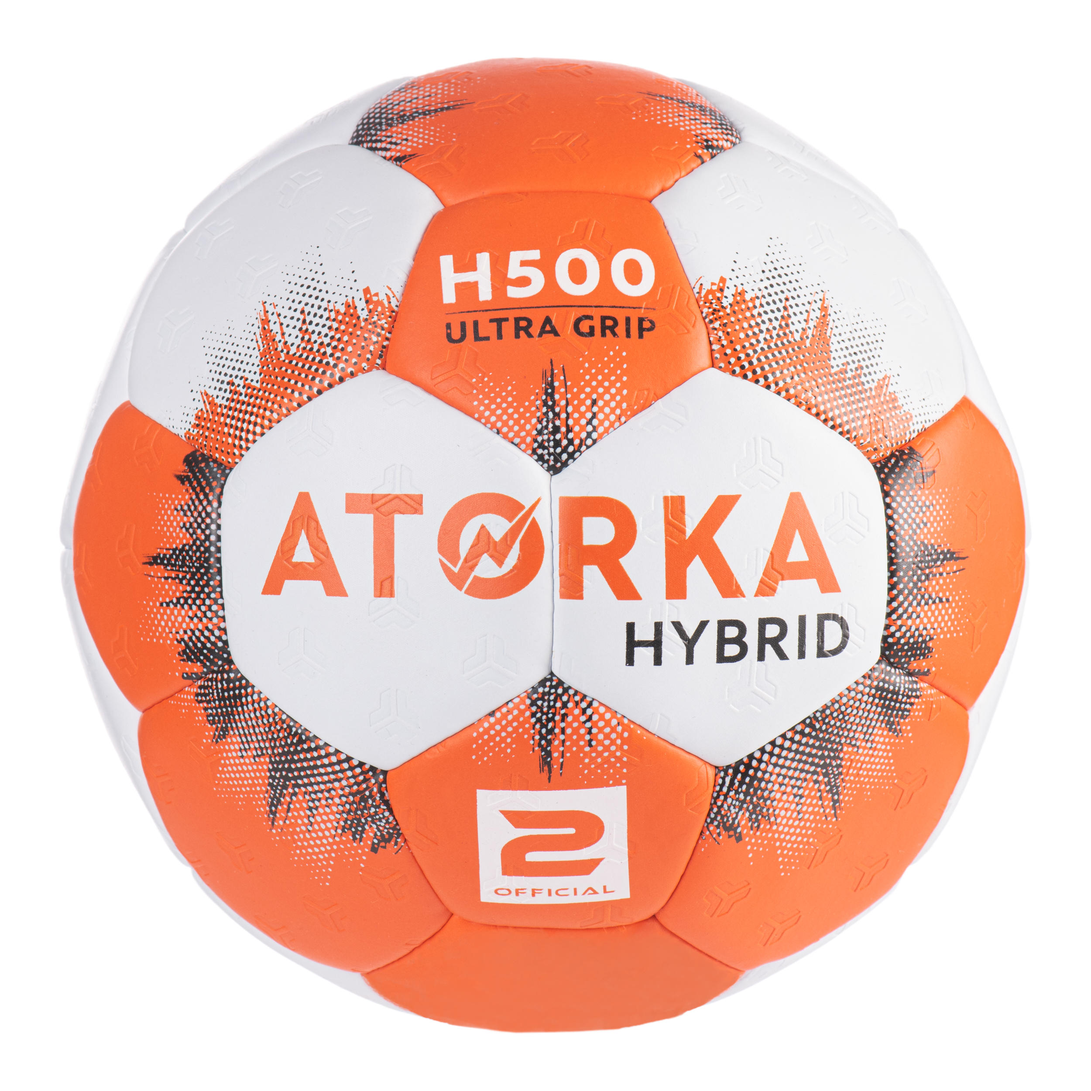sphere: (60, 58, 1030, 1035)
